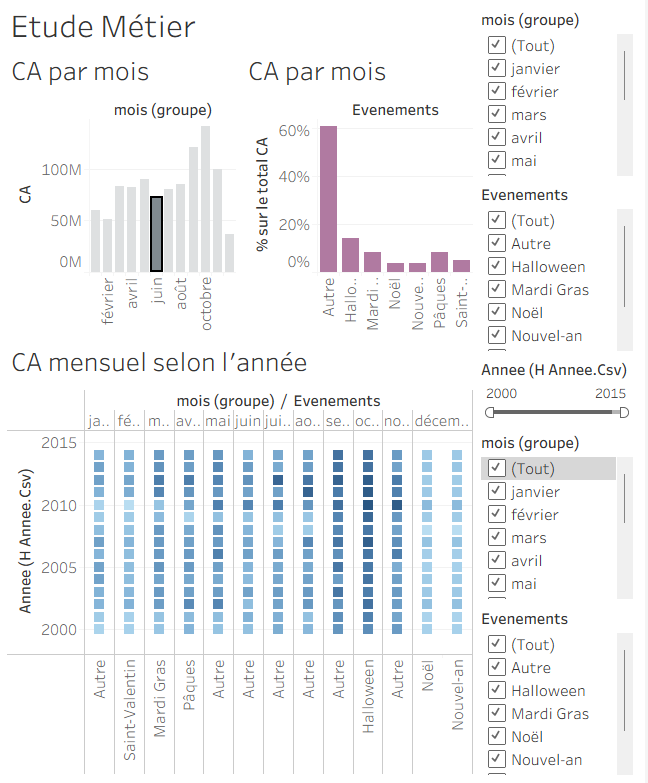

The page's visual inventory and layout, read from the dashboard file:
{"tool":"tableau","page":{"name":"Tableau de bord 1","canvas":[1600,900],"ordinal":0},"visuals":[{"type":"text","box":[8,8,1584,59.7]},{"type":"worksheet","title":"Feuille 3","mark":"Automatic","box":[8,67.7,1584,121.3]},{"type":"worksheet","title":"Feuille 4","mark":"Automatic","rows":["CA"],"cols":["nom"],"box":[8,189,712,703]},{"type":"worksheet","title":"Feuille 2","mark":"Automatic","rows":["CA"],"cols":["annee (h_annee.csv)"],"box":[720,189,712,351.5]},{"type":"filter","title":"Feuille 2","param":"[federated.0wz7fi00tiemkr16s2w0i0qhiq9n].[none:libelle:nk]","box":[1432,189,160,157.5]},{"type":"filter","title":"Feuille 2","param":"[federated.0wz7fi00tiemkr16s2w0i0qhiq9n].[none:region:nk]","box":[1432,346.5,160,157.5]},{"type":"filter","title":"Feuille 4","param":"[federated.0wz7fi00tiemkr16s2w0i0qhiq9n].[none:nom:nk]","box":[1432,504,160,157.5]},{"type":"worksheet","title":"Feuille 12","mark":"Bar","rows":["nom"],"box":[720,540.5,712,351.5]},{"type":"filter","title":"Feuille 12","param":"[federated.0wz7fi00tiemkr16s2w0i0qhiq9n].[none:annee (h_annee.csv):qk]","box":[1432,661.5,160,73]},{"type":"filter","title":"Feuille 12","param":"[federated.0wz7fi00tiemkr16s2w0i0qhiq9n].[none:evenements:nk]","box":[1432,734.5,160,157.5]}]}

Visuals, with their boxes on the page's 1600x900 design canvas (x1, y1, x2, y2). These are canvas units, not pixel positions in the 648x783 screenshot, which may show the page scaled, cropped or inside an application window:
text: <region>8, 8, 1592, 68</region>
"Feuille 3" worksheet: <region>8, 68, 1592, 189</region>
"Feuille 4" worksheet: <region>8, 189, 720, 892</region>
"Feuille 2" worksheet: <region>720, 189, 1432, 540</region>
"Feuille 2" filter: <region>1432, 189, 1592, 346</region>
"Feuille 2" filter: <region>1432, 346, 1592, 504</region>
"Feuille 4" filter: <region>1432, 504, 1592, 662</region>
"Feuille 12" worksheet (Bar marks): <region>720, 540, 1432, 892</region>
"Feuille 12" filter: <region>1432, 662, 1592, 734</region>
"Feuille 12" filter: <region>1432, 734, 1592, 892</region>
